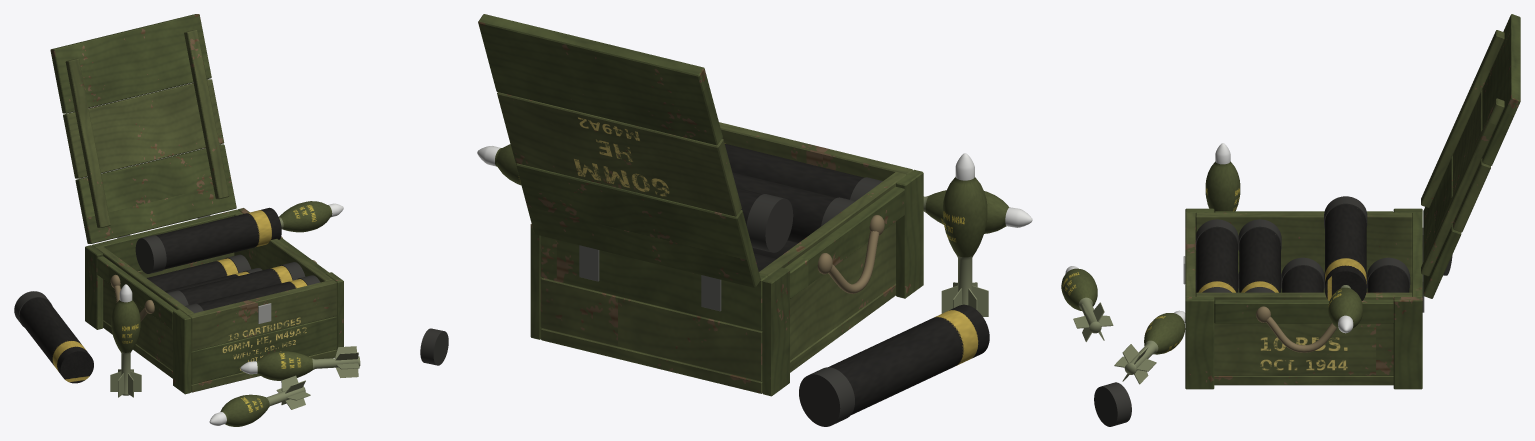
Rendered from caixa_morteiro.glb.
The picture shows the model from 3 angles, left to right: view 1: azimuth 30°, elevation 25°; view 2: azimuth 150°, elevation 25°; view 3: azimuth 270°, elevation 25°; orthographic projection. The views are drawn at different scales.
Visible parts, largest first — view 1: tampa0, tampa2, tampa1, lado0b, lado0a, tubo_aberto, tubo_vazio, cab0, granada_chao2, tampaTrav-0.15, tampaTrav0.13, granada_em_pe (+16 smaller); view 2: tampa0, tampa2, tampa1, lado1a, lado1b, tubo_vazio, cab0, granada_em_pe, fundo, lado0b, travH0, tubo10 (+12 smaller); view 3: cab1, cab0, tubo_aberto, travH1, tampa0, trav1_-0.20, trav1_0.15, tubo11, tubo10, granada_chao2, tampa2, tampaTrav0.13 (+13 smaller).
Part boxes in pixels (x1,y1,x2,y2): tampa0: [50, 14, 211, 113]; tampa2: [75, 144, 236, 243]; tampa1: [63, 79, 224, 178]; lado0b: [187, 279, 336, 351]; lado0a: [191, 316, 336, 384]; tubo_aberto: [156, 207, 281, 269]; tubo_vazio: [19, 297, 93, 383]; cab0: [96, 246, 193, 370]; granada_chao2: [240, 346, 360, 380]; tampaTrav-0.15: [65, 58, 110, 227]; tampaTrav0.13: [184, 30, 229, 199]; granada_em_pe: [110, 284, 141, 397]; tampa0: [478, 14, 722, 145]; tampa2: [516, 163, 760, 287]; tampa1: [497, 92, 741, 216]; lado1a: [540, 278, 762, 381]; lado1b: [540, 236, 767, 331]; tubo_vazio: [828, 304, 989, 414]; cab0: [759, 172, 906, 360]; granada_em_pe: [941, 153, 988, 316]; fundo: [540, 283, 895, 393]; lado0b: [719, 122, 912, 180]; travH0: [784, 186, 904, 298]; tubo10: [725, 143, 863, 199]; cab1: [1195, 292, 1412, 375]; cab0: [1195, 212, 1412, 292]; tubo_aberto: [1325, 204, 1366, 300]; travH1: [1214, 299, 1393, 323]; tampa0: [1482, 14, 1520, 165]; trav1_-0.20: [1185, 297, 1214, 389]; trav1_0.15: [1393, 297, 1422, 389]; tubo11: [1239, 227, 1280, 292]; tubo10: [1196, 227, 1237, 292]; granada_chao2: [1114, 310, 1185, 384]; tampa2: [1423, 155, 1461, 298]; tampaTrav0.13: [1421, 98, 1504, 276].
Bounding box in the file's own units: 0.7546 × 0.5507 × 0.7937.
Materials: 13 (7 with a texture image).
